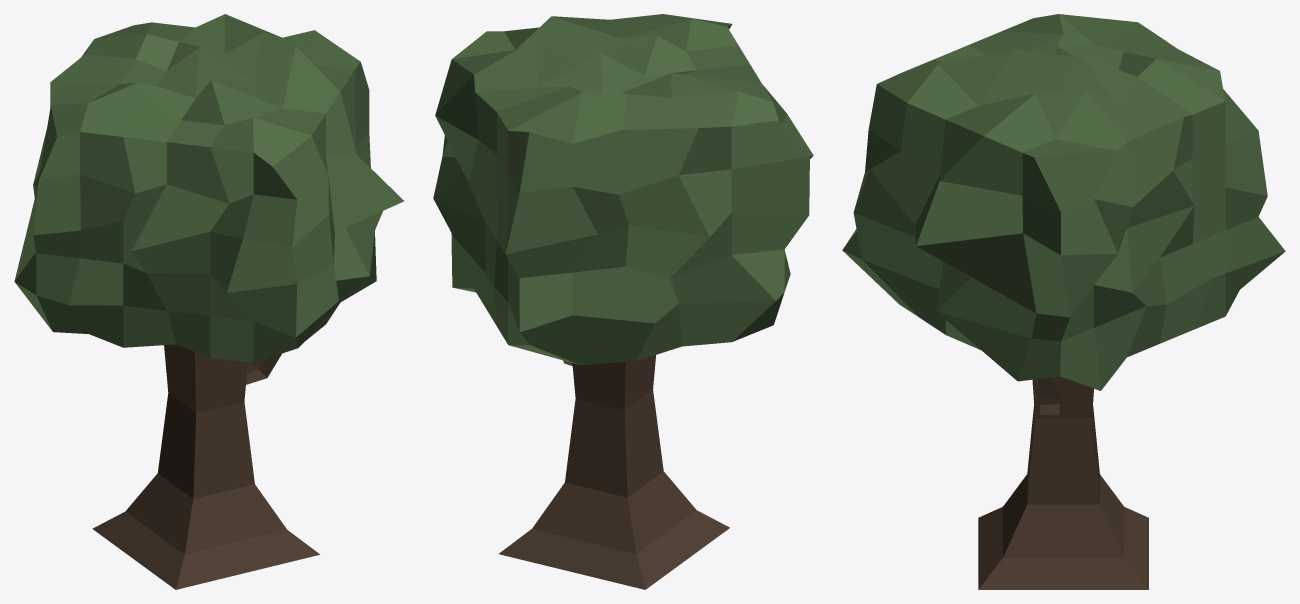
Rendered from treeSlightlyDifferent.fbx.
3 renders of one model, left to right at view 1: azimuth 30°, elevation 25°; view 2: azimuth 150°, elevation 25°; view 3: azimuth 270°, elevation 25°, orthographic. The views are drawn at different scales.
Parts seen in each view (by area): view 1: a, Cube; view 2: a, Cube; view 3: a, Cube.
Part boxes in pixels (left/top/right/bottom): a: left=14, top=14, right=404, bottom=362; Cube: left=92, top=344, right=319, bottom=589; a: left=433, top=14, right=813, bottom=365; Cube: left=499, top=355, right=729, bottom=589; a: left=842, top=14, right=1285, bottom=390; Cube: left=978, top=376, right=1148, bottom=589.
Size of the model in its own units: 1782 by 2341 by 1889.
